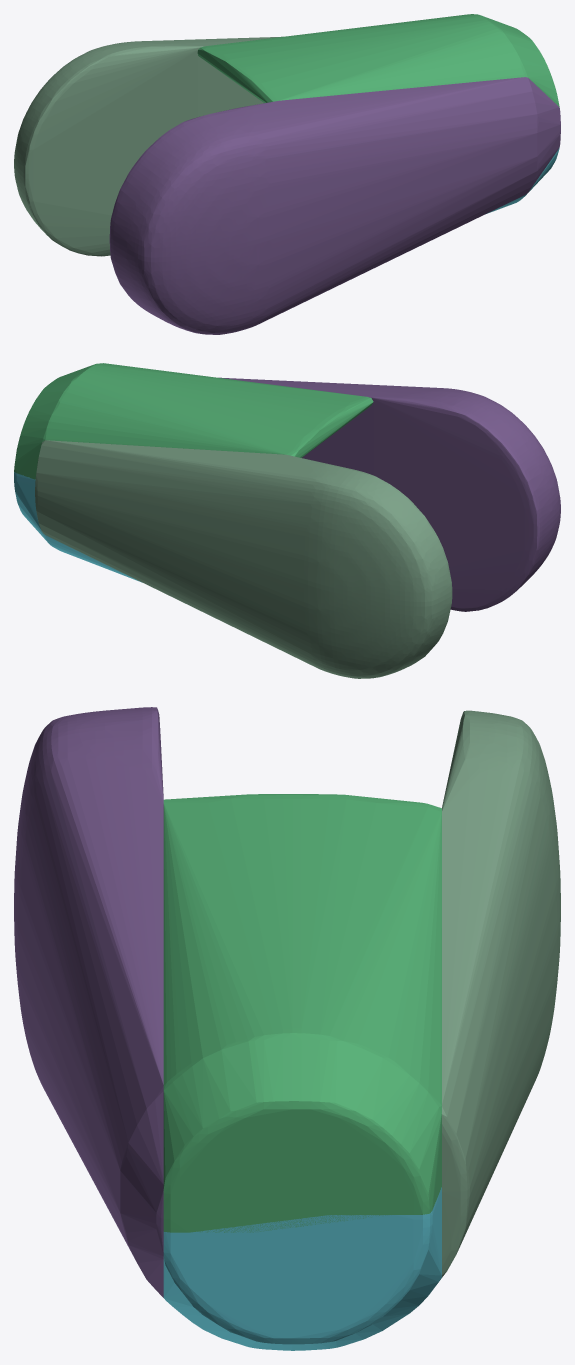
The model's file is arm_l2.obj.
The picture shows the model from 3 angles, top to bottom: view 1: azimuth 30°, elevation 25°; view 2: azimuth 150°, elevation 25°; view 3: azimuth 270°, elevation 25°; orthographic projection. The views are drawn at different scales.
Visible parts, largest first — view 1: geometry_1, geometry_0, geometry_3; view 2: geometry_0, geometry_1, geometry_3, geometry_2; view 3: geometry_3, geometry_1, geometry_0, geometry_2.
Boxes of the visible parts, box(x1,y1,x2,y2) form: geometry_1: box(109, 77, 560, 334); geometry_0: box(14, 36, 282, 256); geometry_3: box(197, 14, 559, 108); geometry_0: box(35, 440, 452, 678); geometry_1: box(219, 377, 560, 611); geometry_3: box(14, 363, 373, 479); geometry_2: box(14, 472, 142, 582); geometry_3: box(163, 794, 441, 1232); geometry_1: box(14, 707, 163, 1297); geometry_0: box(442, 710, 560, 1277); geometry_2: box(163, 1187, 441, 1350).
Bounding box in the file's own units: 0.2109 × 0.0906 × 0.1221.
